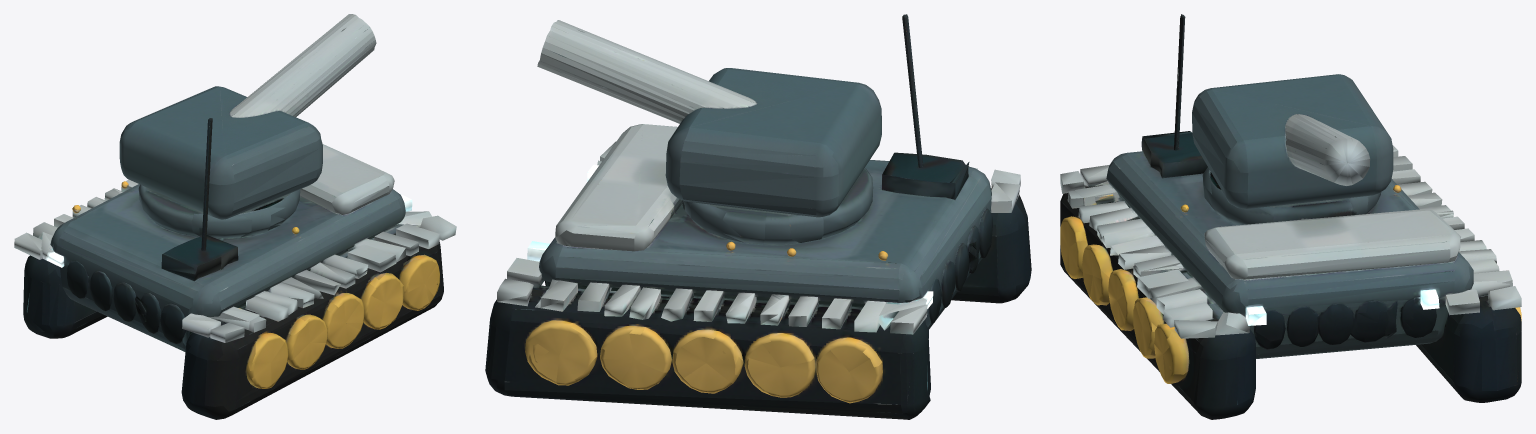
File: artillery.glb
3 renders of one model, left to right at view 1: azimuth 30°, elevation 25°; view 2: azimuth 150°, elevation 25°; view 3: azimuth 270°, elevation 25°, orthographic. The views are drawn at different scales.
Bounding box in the file's own units: 0.9512 × 0.6797 × 1.
Materials: 1 (1 with a texture image).
